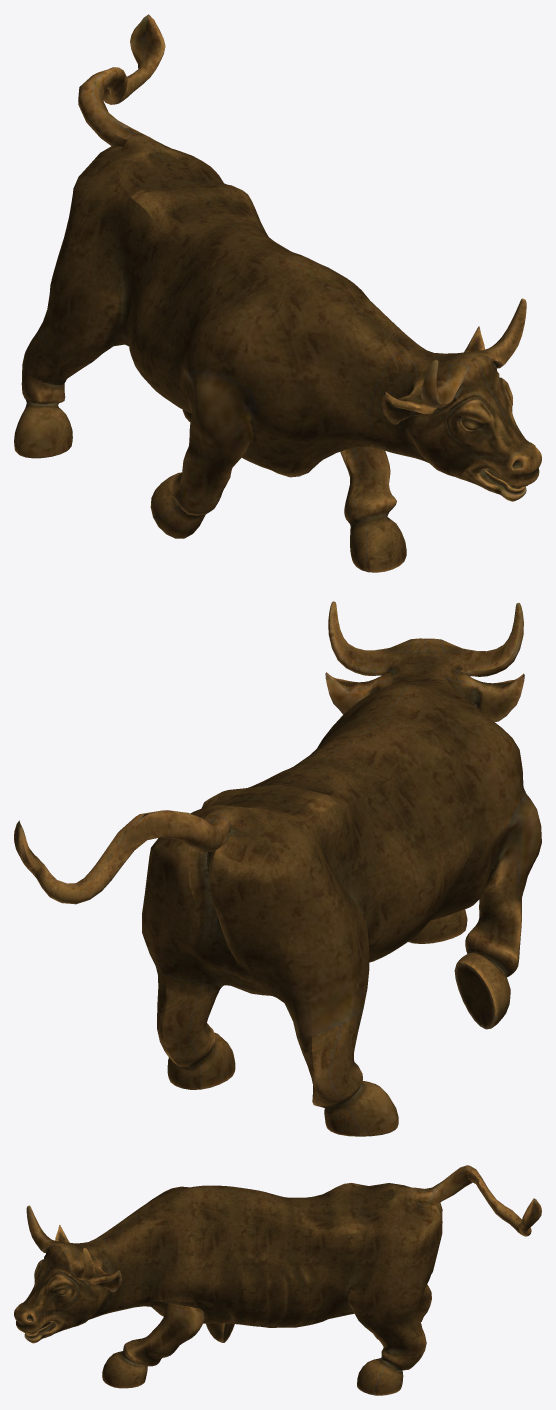
The model's file is charging-bull.glb.
3 renders of one model, top to bottom at view 1: azimuth 30°, elevation 25°; view 2: azimuth 150°, elevation 25°; view 3: azimuth 270°, elevation 25°, orthographic. The views are drawn at different scales.
Parts seen in each view (by area): view 1: LOW; view 2: LOW; view 3: LOW.
Boxes of the visible parts, bbox=[...] form: LOW: bbox=[14, 14, 541, 572]; LOW: bbox=[14, 601, 541, 1136]; LOW: bbox=[14, 1165, 541, 1395].
Size of the model in its own units: 0.8465 by 0.8746 by 2.
Materials: 1 (1 with a texture image).
